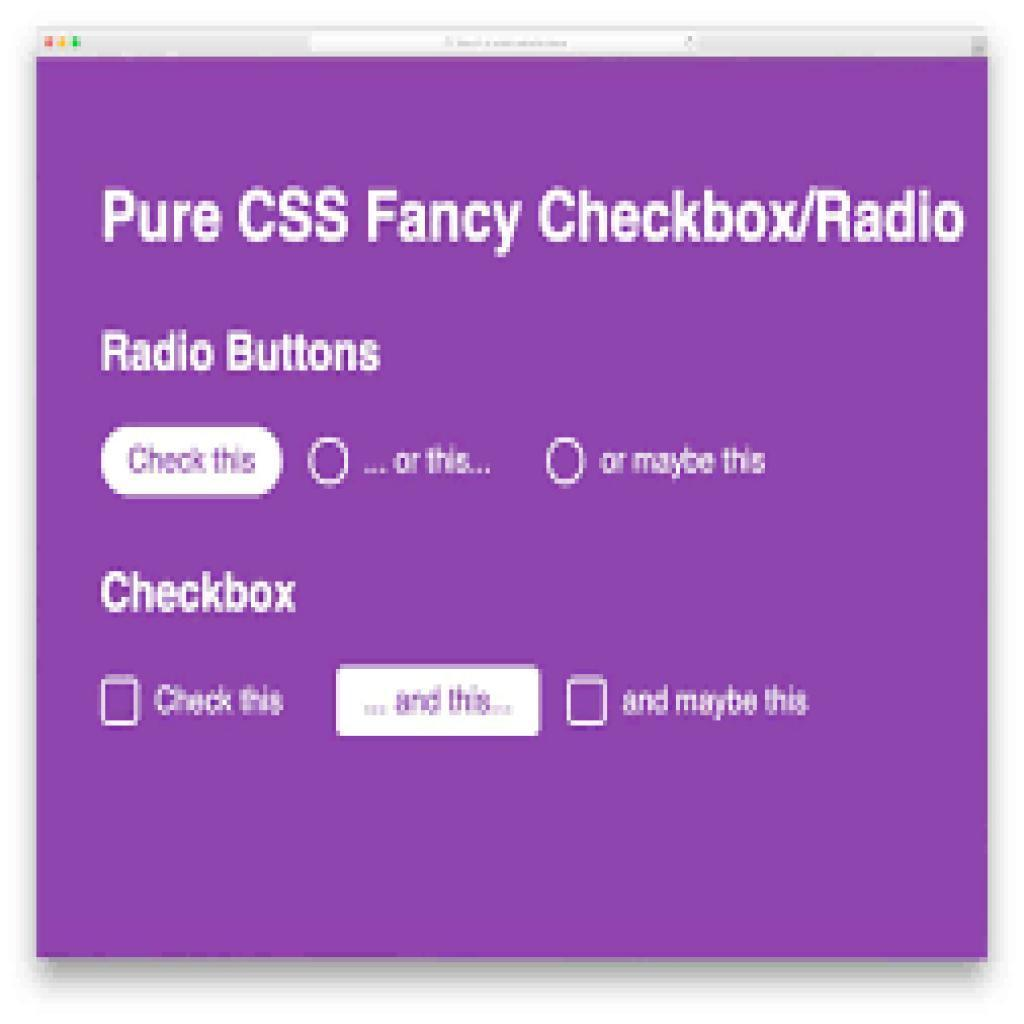button: (335, 662, 543, 739), (103, 429, 284, 497)
checkbox: (562, 672, 612, 736), (96, 671, 146, 731)
radio: (301, 429, 355, 496), (540, 433, 590, 493)
